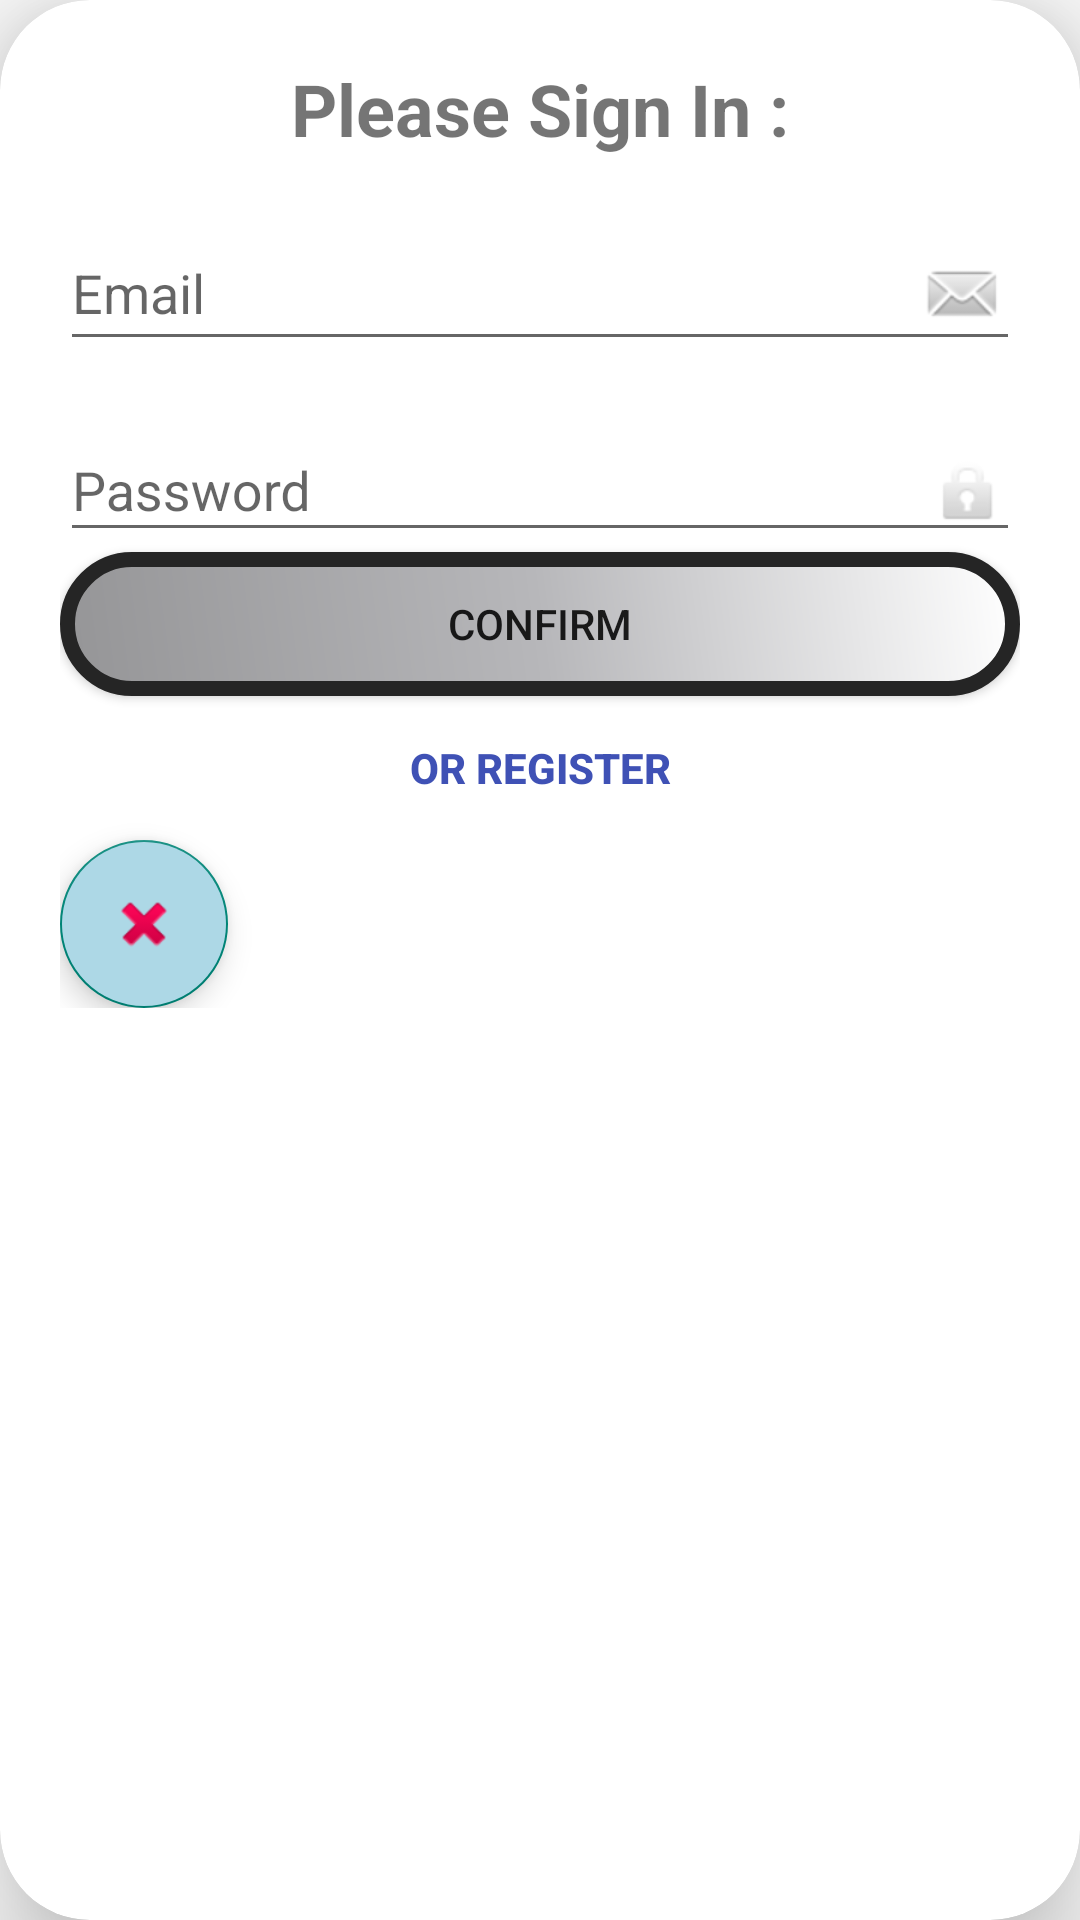

Where icons sit on this 1080w x 1920h app screen, as (left=x1, top=y1, right=x2, bottom=y2):
delete: (left=60, top=840, right=228, bottom=1008)
